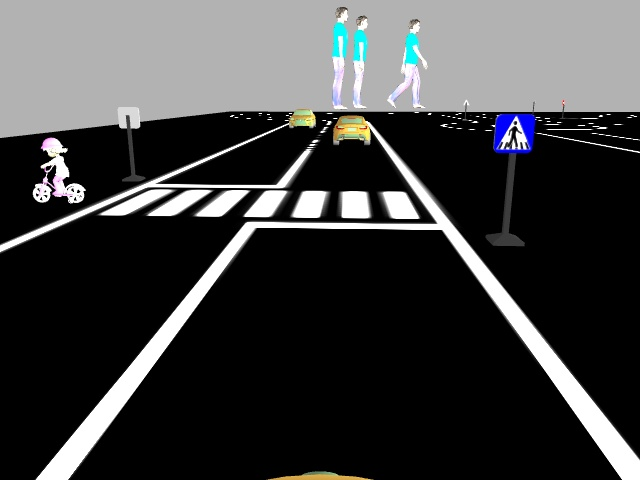Crosswalk: (492, 114, 535, 153)
Pedestrian: (25, 138, 85, 204)
